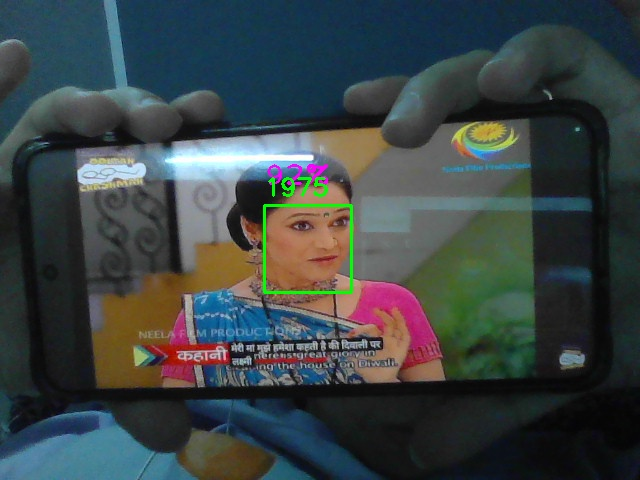fake: (264, 205, 352, 293)
